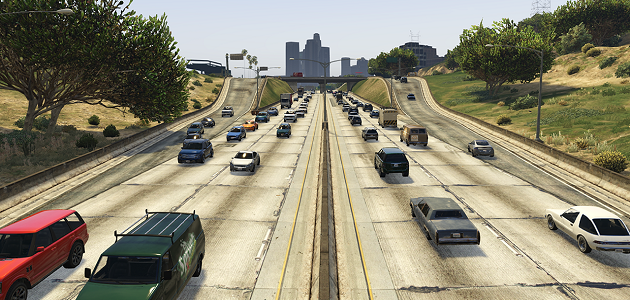car: (547, 202, 629, 264), (407, 189, 486, 252), (373, 147, 414, 179), (177, 138, 216, 164), (397, 123, 431, 149), (461, 137, 497, 159), (230, 152, 259, 172), (359, 126, 380, 143), (275, 122, 295, 139), (227, 125, 244, 143)
